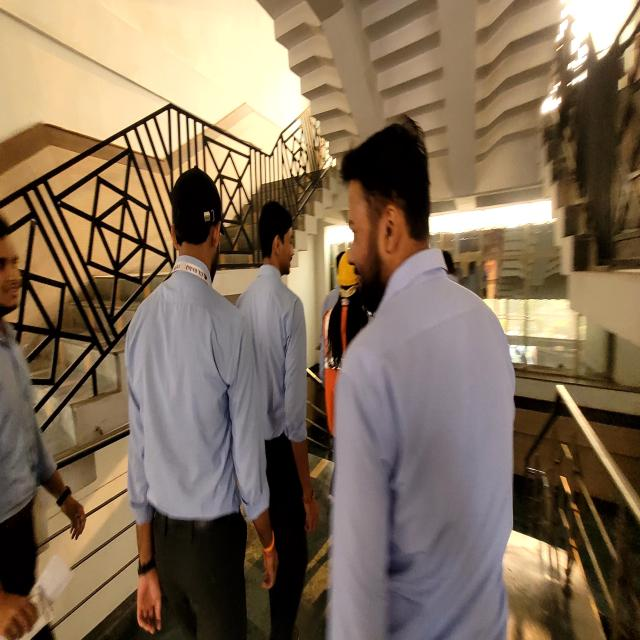unsafe: (328, 119, 512, 640), (122, 162, 265, 638), (252, 193, 321, 640)
